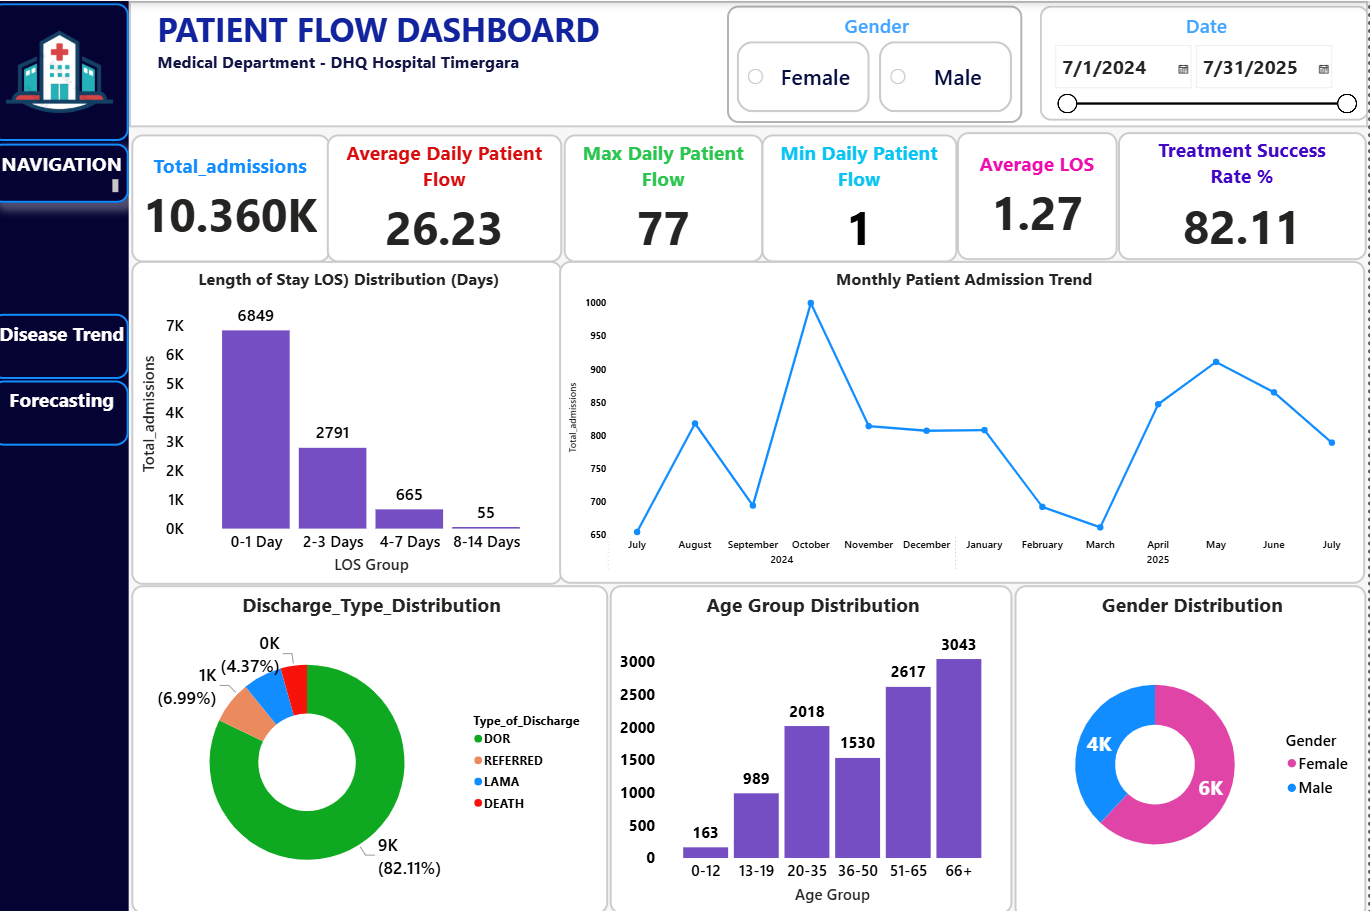

The dashboard page shown, as its layout file describes it:
{"tool":"powerbi","page":{"name":"Patient flow ","canvas":[1800,1200],"ordinal":0},"visuals":[{"type":"textbox","title":"DHQ Hospital Timergara","box":[0,0,180,1200.7],"z":0},{"type":"textbox","box":[180,0,1620,165],"z":1000},{"type":"actionButton","title":"Forecasting","box":[0,497.5,180,85],"z":2000},{"type":"actionButton","title":"Disease Trend","box":[0,410,180,85],"z":3000},{"type":"image","box":[0,2.5,180,180],"z":4000},{"type":"textbox","title":"NAVIGATION","box":[0,187.5,180,77.5],"z":5000},{"type":"cardVisual","fields":{"Data":["Avg(Sheet1.LOS)"]},"box":[1262.5,172.5,210,167.5],"z":6000},{"type":"cardVisual","fields":{"Data":["Sheet1.Total_admissions"]},"box":[182.5,175,260,167.5],"z":7000},{"type":"cardVisual","fields":{"Data":["Sheet1.Treatment Success Rate"]},"box":[1472.5,172.5,325,167.5],"z":8000},{"type":"slicer","title":"Date","fields":{"Values":["Sheet1.Date_of_admission"]},"box":[1370.8,5.9,430.4,150.3],"z":9000},{"type":"advancedSlicerVisual","title":" Gender","fields":{"Values":["Sheet1.Gender"],"Label":["Sheet1.Total_admissions"]},"box":[961,5.9,386.2,153.3],"z":10000},{"type":"cardVisual","fields":{"Data":["Sheet1.Average Daily Patient Flow"]},"box":[440,175,308,167.5],"z":11000},{"type":"cardVisual","fields":{"Data":["Sheet1.Max Daily Patient Flow"]},"box":[747.5,175,261,167.5],"z":12000},{"type":"cardVisual","fields":{"Data":["Sheet1.Min Daily Patient Flow"]},"box":[1007.5,175,256,167.5],"z":13000},{"type":"donutChart","title":"Gender Distribution","fields":{"Category":["Sheet1.Gender"],"Y":["Sheet1.Total_admissions"]},"box":[1338.1,763.8,460.1,436],"z":14000},{"type":"donutChart","title":"Discharge_Type_Distribution","fields":{"Category":["Sheet1.Type_of_Discharge"],"Y":["Sheet1.Total_admissions"]},"box":[183.3,763.3,623.3,430],"z":15000},{"type":"lineStackedColumnComboChart","title":"Length of Stay LOS) Distribution (Days)","fields":{"Category":["Sheet1.LOS Group"],"Y":["Sheet1.Total_admissions"]},"box":[183.3,340,563.3,423.3],"z":16000},{"type":"lineStackedColumnComboChart","title":"Age Group Distribution","fields":{"Category":["Sheet1.Age Group"],"Y":["Sheet1.Total_admissions"]},"box":[810,763.3,526.7,430],"z":17000},{"type":"lineChart","title":"Monthly Patient Admission Trend","fields":{"Y":["Sheet1.Total_admissions"],"Category":["Sheet1.Date_of_admission.Variation.Date Hierarchy.Year","Sheet1.Date_of_admission.Variation.Date Hierarchy.Month"]},"box":[744,340,1054,422],"z":18000}]}

Visuals, with their boxes in screenshot pixels (x1, y1, x2, y2), scaled from the page's 1800x1200 canvas onto the 1370x911 screenshot:
"DHQ Hospital Timergara" textbox: 0/0/137/910
textbox: 137/0/1369/125
"Forecasting" actionButton: 0/378/137/442
"Disease Trend" actionButton: 0/311/137/376
image: 0/2/137/139
"NAVIGATION" textbox: 0/142/137/201
cardVisual - Avg(Sheet1.LOS): 961/131/1121/258
cardVisual - Sheet1.Total_admissions: 139/133/337/260
cardVisual - Sheet1.Treatment Success Rate: 1121/131/1368/258
"Date" slicer: 1043/4/1369/119
" Gender" advancedSlicerVisual: 731/4/1025/121
cardVisual - Sheet1.Average Daily Patient Flow: 335/133/569/260
cardVisual - Sheet1.Max Daily Patient Flow: 569/133/768/260
cardVisual - Sheet1.Min Daily Patient Flow: 767/133/962/260
"Gender Distribution" donutChart: 1018/580/1369/910
"Discharge_Type_Distribution" donutChart: 140/579/614/906
"Length of Stay LOS) Distribution (Days)" lineStackedColumnComboChart: 140/258/568/579
"Age Group Distribution" lineStackedColumnComboChart: 616/579/1017/906
"Monthly Patient Admission Trend" lineChart: 566/258/1368/578
